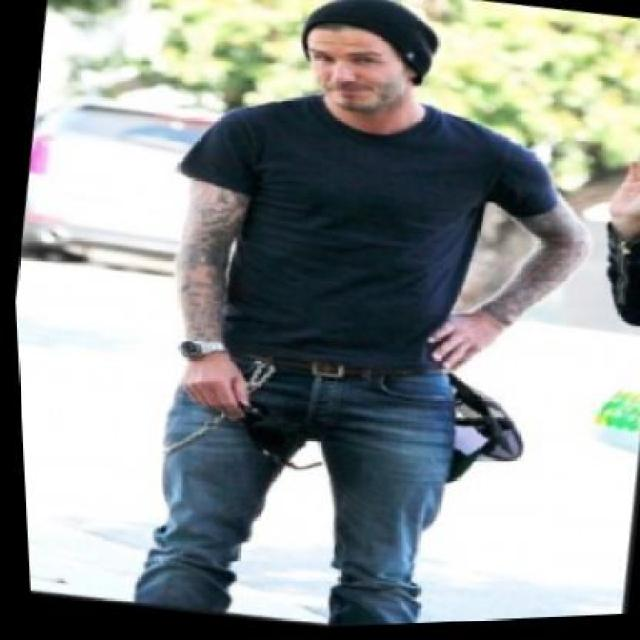hat: (287, 0, 450, 95)
